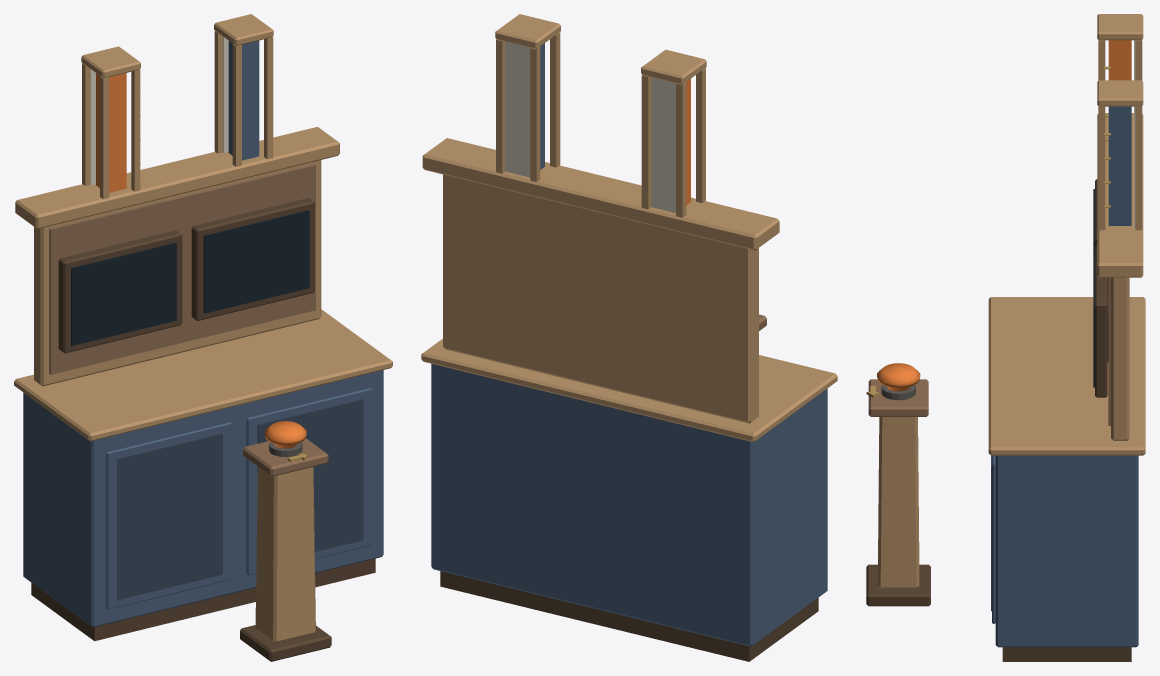
3 views of the same model, side by side, from view 1: azimuth 30°, elevation 25°; view 2: azimuth 150°, elevation 25°; view 3: azimuth 270°, elevation 25° (orthographic). The views are drawn at different scales.
Visible parts, largest first — view 1: body, display_clip1, display_clip0, bar_1, bar_0, button; view 2: body, bar_0, bar_1; view 3: body, bar_1, bar_0, button.
Boxes of the visible parts, bbox=[...] form: body: bbox=[14, 14, 392, 661]; display_clip1: bbox=[203, 210, 309, 313]; display_clip0: bbox=[71, 242, 176, 346]; bar_1: bbox=[228, 40, 259, 160]; bar_0: bbox=[96, 73, 126, 192]; button: bbox=[264, 421, 306, 448]; body: bbox=[421, 14, 837, 661]; bar_0: bbox=[686, 79, 690, 205]; bar_1: bbox=[540, 43, 544, 169]; body: bbox=[866, 14, 1145, 661]; bar_1: bbox=[1108, 106, 1131, 225]; bar_0: bbox=[1108, 40, 1131, 80]; button: bbox=[877, 363, 920, 391].
Bounding box in the file's own units: 1.56 × 2.56 × 1.21.
